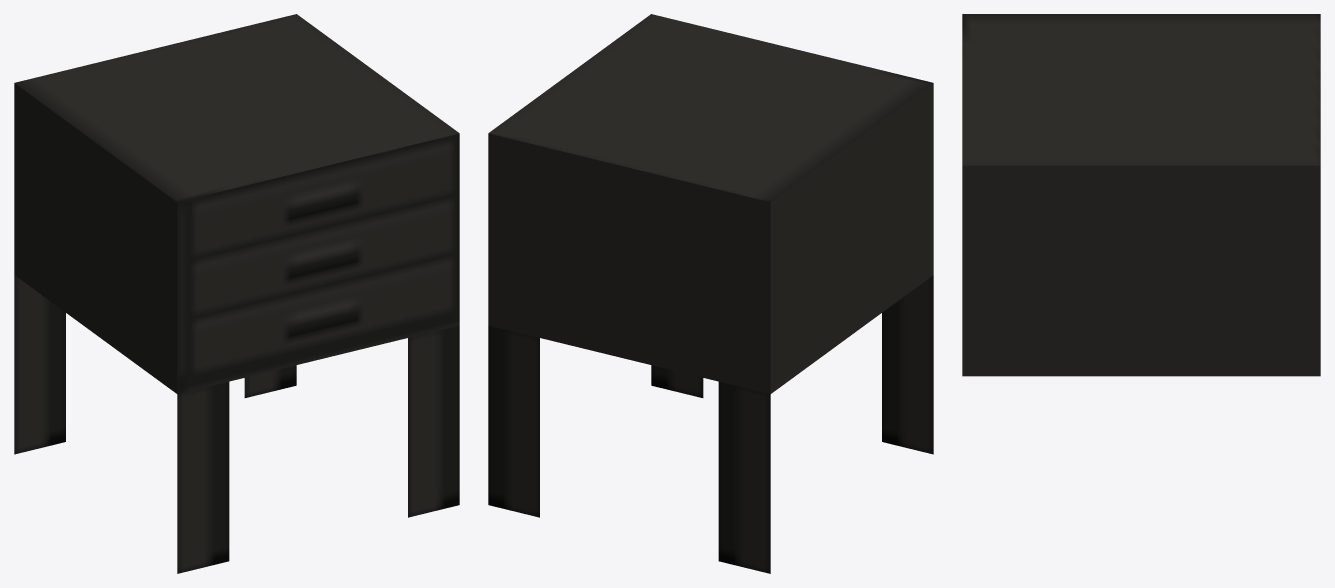
File: Shelf2.fbx
The picture shows the model from 3 angles, left to right: view 1: azimuth 30°, elevation 25°; view 2: azimuth 150°, elevation 25°; view 3: azimuth 270°, elevation 25°; orthographic projection. The views are drawn at different scales.
Visible parts, largest first — view 1: Shelf2; view 2: Shelf2; view 3: Shelf2.
Part boxes in pixels (x1,y1,x2,y2): Shelf2: [14, 14, 459, 573]; Shelf2: [488, 14, 933, 573]; Shelf2: [962, 14, 1320, 376].
Bounding box in the file's own units: 1.09 × 1.37 × 1.09.
